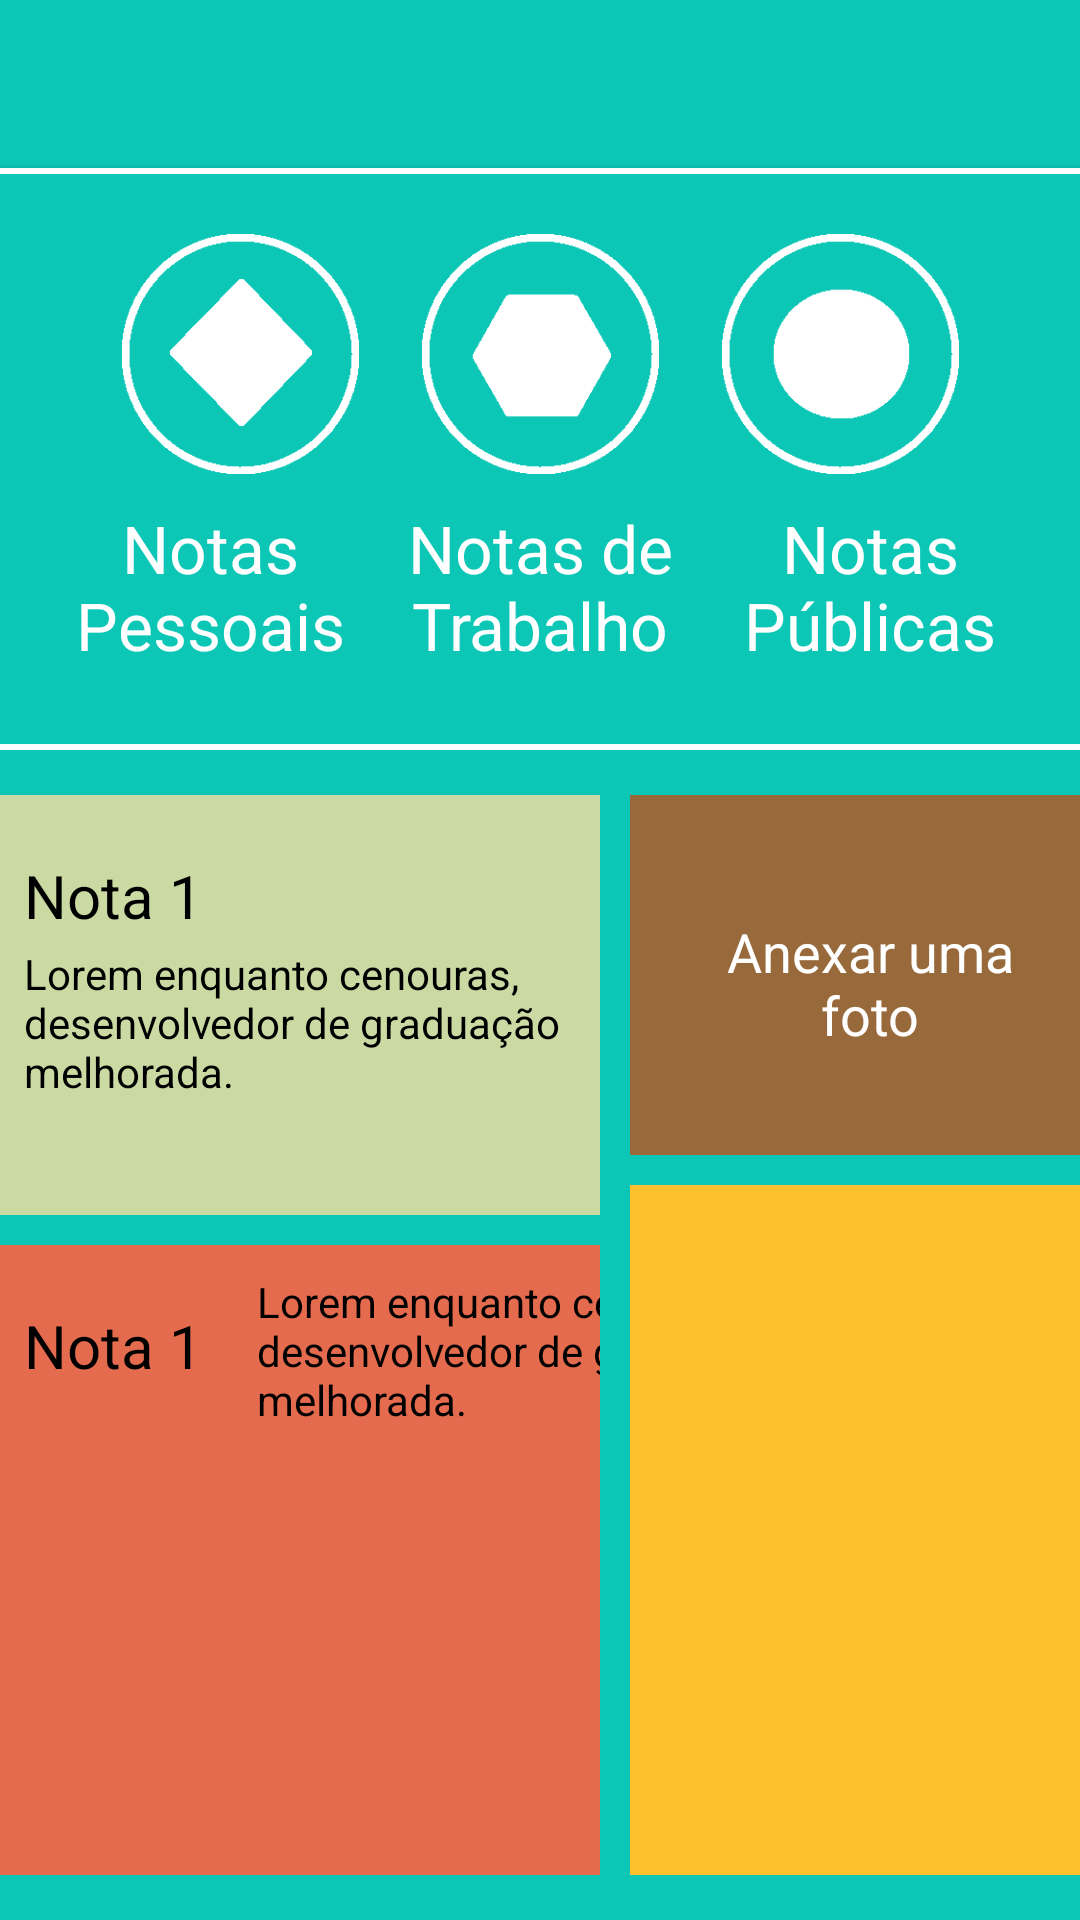

Screen size 1080 x 1920. Icon name, then its center in pixels as [x,y]:
circulo esfera: [840,354]
circulo hexagono: [540,354]
circulo prisma: [240,354]
